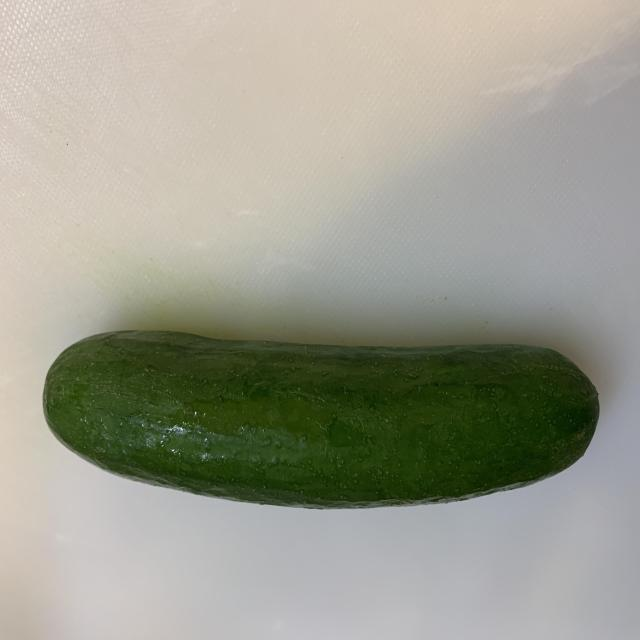cucumber: (42, 328, 599, 511)
